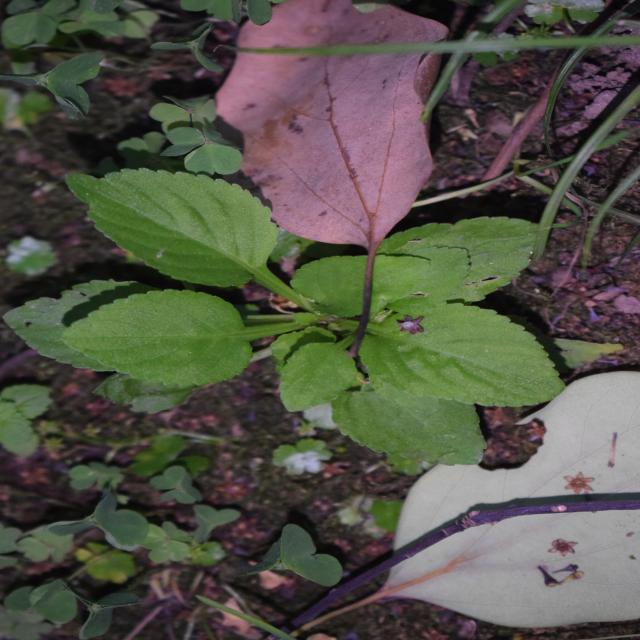Viola: (201, 49, 472, 523)
